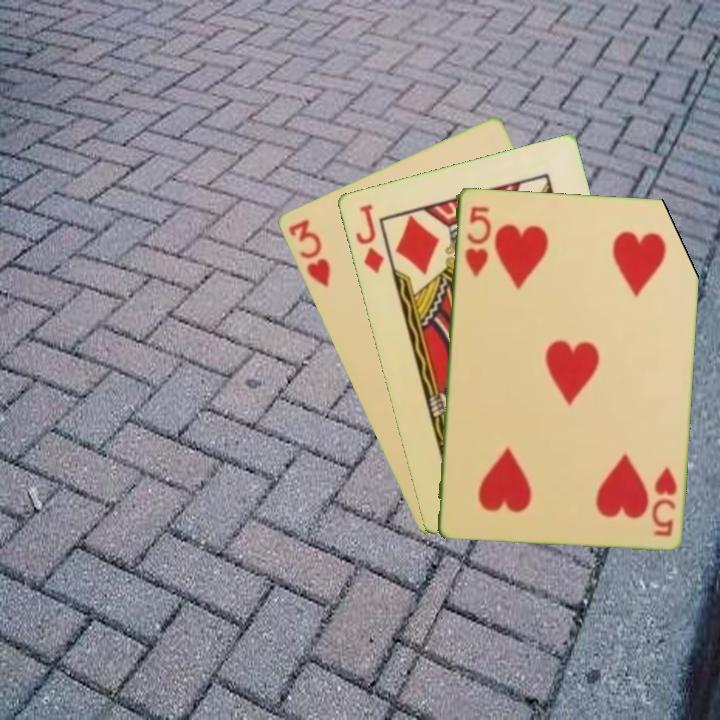3h: (284, 216, 333, 291)
5h: (648, 463, 680, 539), (461, 202, 492, 279)
Jd: (351, 200, 387, 276)
